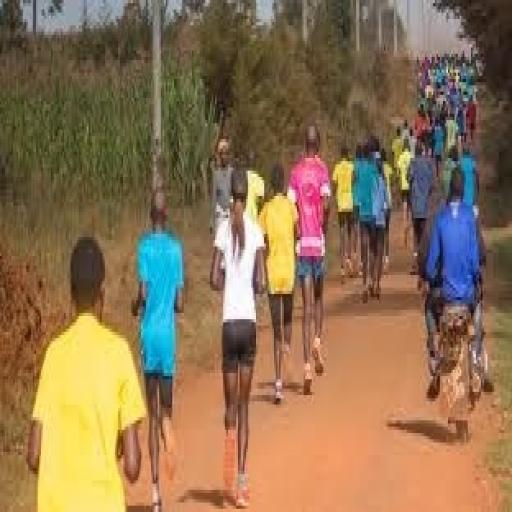running: (24, 231, 148, 509), (209, 161, 269, 509), (420, 161, 487, 446), (130, 183, 188, 509), (286, 117, 334, 398), (256, 158, 302, 408)
